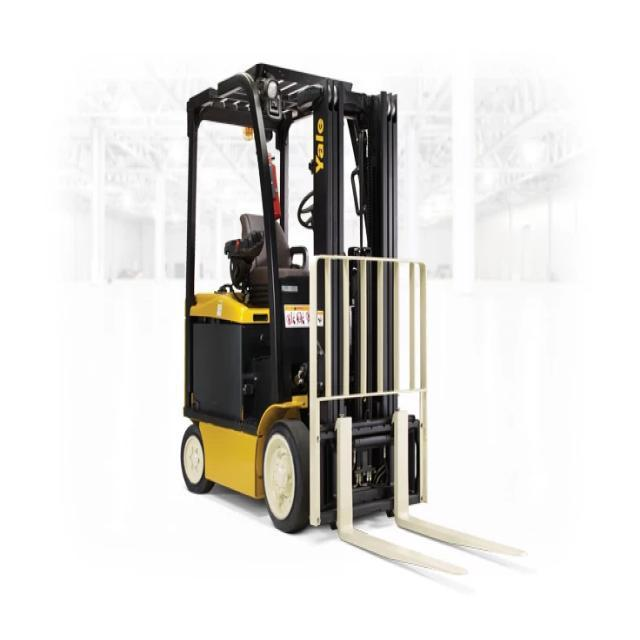forklift: (159, 51, 439, 570)
